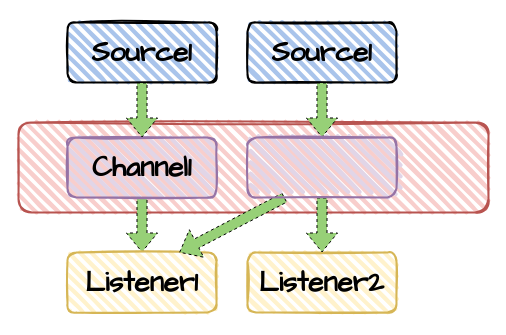
Some shapes in this 506 by 335 pixel diagram are drawn without their labels. Here are the shapes that lost their labels. From the top down, the box of each, then its label:
(17, 121, 489, 213): Bus
(246, 136, 397, 198): Channel2
